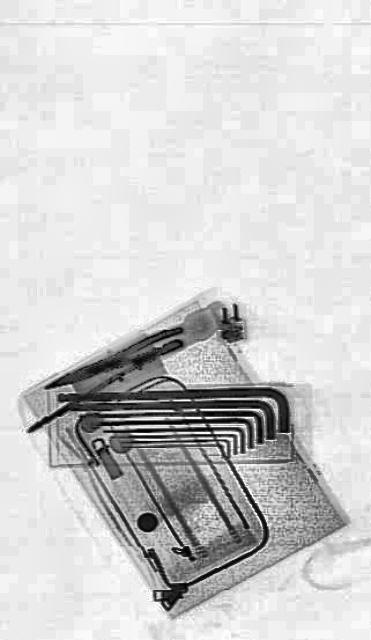Pliers: (40, 322, 186, 398)
